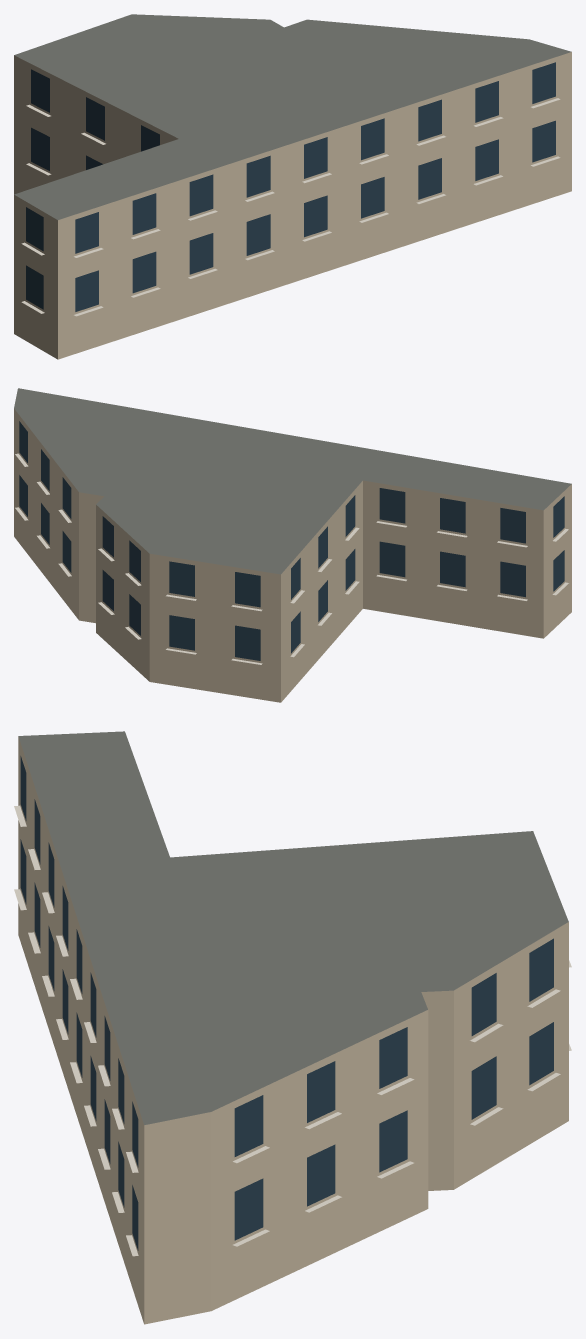
3 views of the same model, one above another, from view 1: azimuth 30°, elevation 25°; view 2: azimuth 150°, elevation 25°; view 3: azimuth 270°, elevation 25° (orthographic). The views are drawn at different scales.
Visible parts, largest first — view 1: Footprint 0, Inferred window bays, Window sills; view 2: Footprint 0, Inferred window bays, Window sills; view 3: Footprint 0, Inferred window bays, Window sills.
Boxes of the visible parts, bbox=[...] form: Footprint 0: bbox=[14, 14, 571, 359]; Inferred window bays: bbox=[26, 62, 555, 311]; Window sills: bbox=[21, 98, 560, 316]; Footprint 0: bbox=[14, 388, 571, 702]; Inferred window bays: bbox=[19, 421, 564, 660]; Window sills: bbox=[15, 453, 568, 664]; Footprint 0: bbox=[18, 731, 568, 1324]; Inferred window bays: bbox=[20, 756, 553, 1250]; Window sills: bbox=[14, 805, 571, 1256].
Size of the model in its own units: 27.13 by 6.37 by 16.16.
